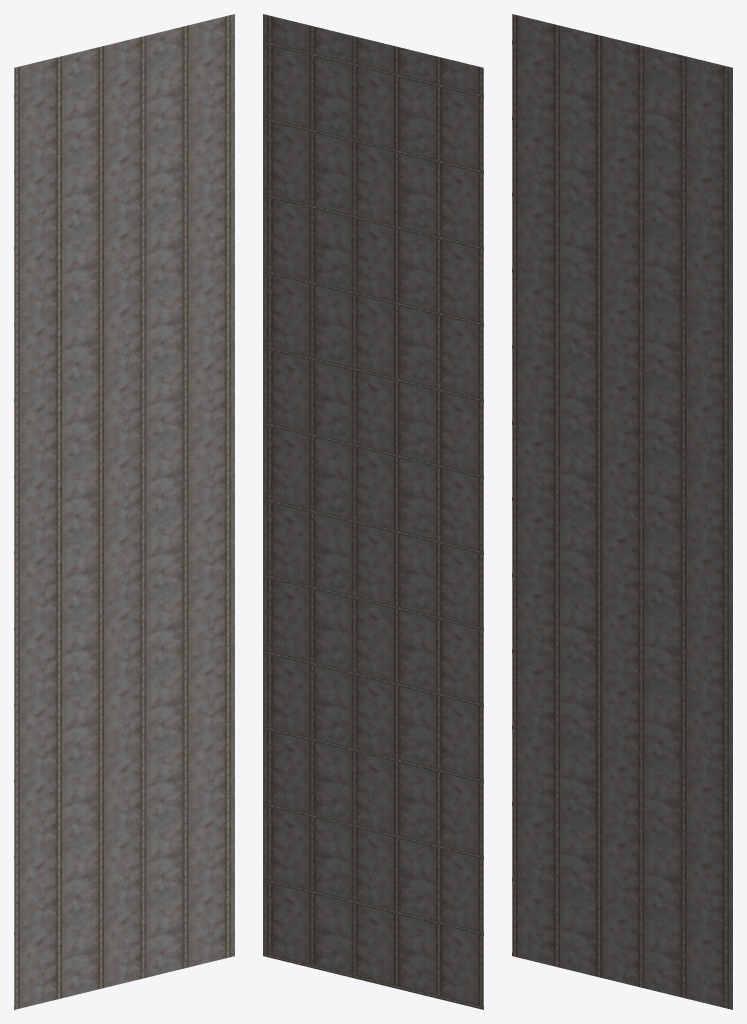
Rendered from rocket_factory_support_beam_wall.glb.
3 renders of one model, left to right at view 1: azimuth 30°, elevation 25°; view 2: azimuth 150°, elevation 25°; view 3: azimuth 330°, elevation 25°, orthographic.
Visible parts, largest first — view 1: rocket_factory_support_beam_wall; view 2: rocket_factory_support_beam_wall; view 3: rocket_factory_support_beam_wall.
Part boxes in pixels (x1,y1,x2,y2): rocket_factory_support_beam_wall: [14, 14, 234, 1009]; rocket_factory_support_beam_wall: [263, 14, 483, 1009]; rocket_factory_support_beam_wall: [512, 14, 732, 1009].
Size of the model in its own units: 9.1 by 37.13 by 0.00227.
1 material, 1 textured.
